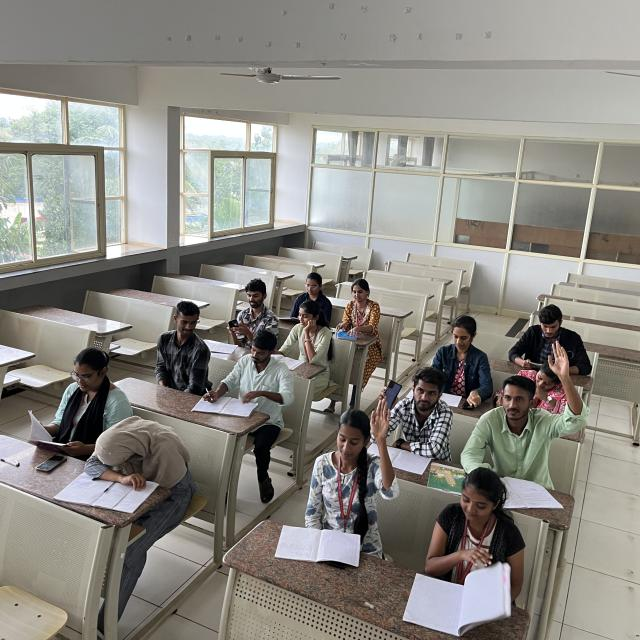Hand Rising: (483, 336, 583, 475), (313, 400, 399, 514)
Reading: (424, 474, 523, 614), (21, 343, 134, 454), (509, 304, 599, 379), (428, 316, 492, 410), (276, 267, 334, 323)
Sleeping: (84, 414, 188, 491)
Using Phone: (383, 362, 458, 444), (222, 281, 278, 340)
Writing: (200, 332, 294, 420)
